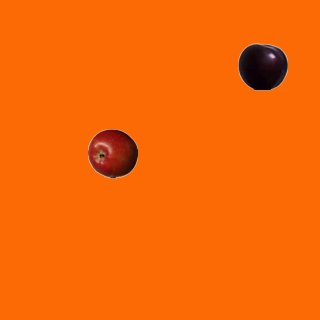Apple Braeburn: (87, 128, 137, 178)
Cherry Wax Black: (237, 41, 287, 91)
